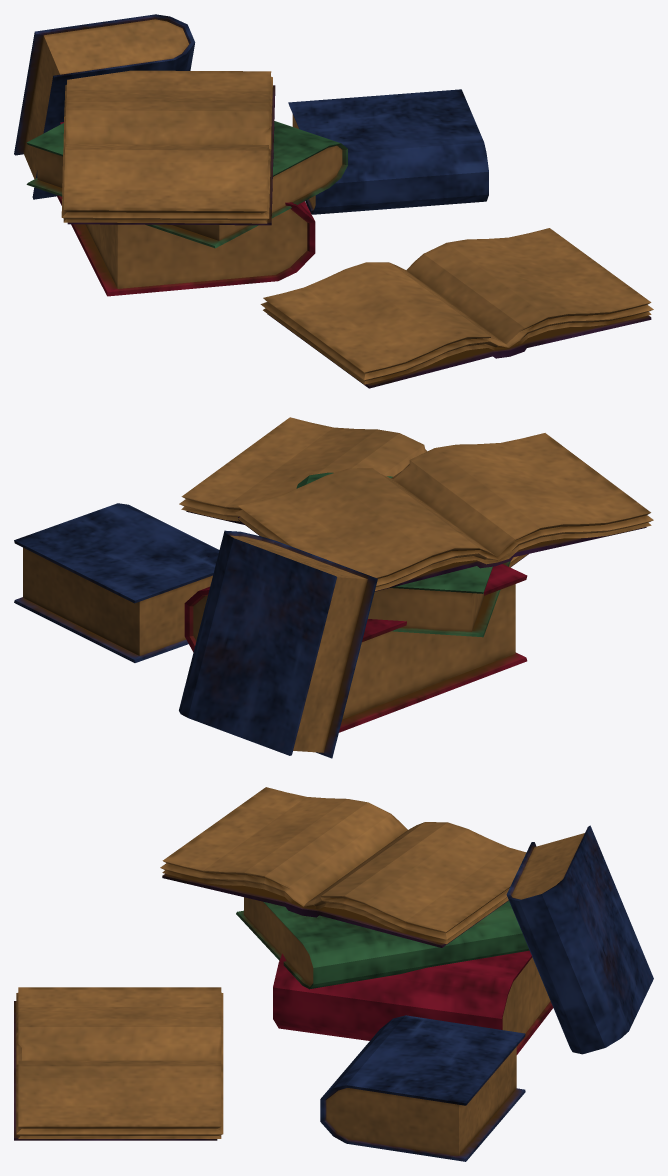
File: Books.fbx
3 views of the same model, one above another, from view 1: azimuth 30°, elevation 25°; view 2: azimuth 150°, elevation 25°; view 3: azimuth 270°, elevation 25° (orthographic). The views are drawn at different scales.
Parts seen in each view (by area): view 1: Books; view 2: Books; view 3: Books.
Boxes of the visible parts, x1,y1,x2,y2 form: Books: [14, 14, 653, 388]; Books: [14, 417, 653, 758]; Books: [14, 787, 653, 1161].
Bounding box in the file's own units: 86.34 × 28.03 × 95.87.
Materials: 1 (1 with a texture image).
